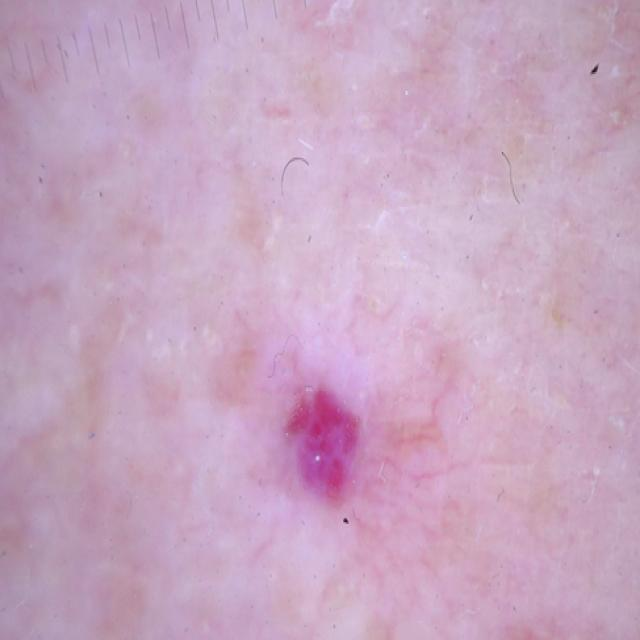Vascular Lesions: (260, 356, 385, 525)
